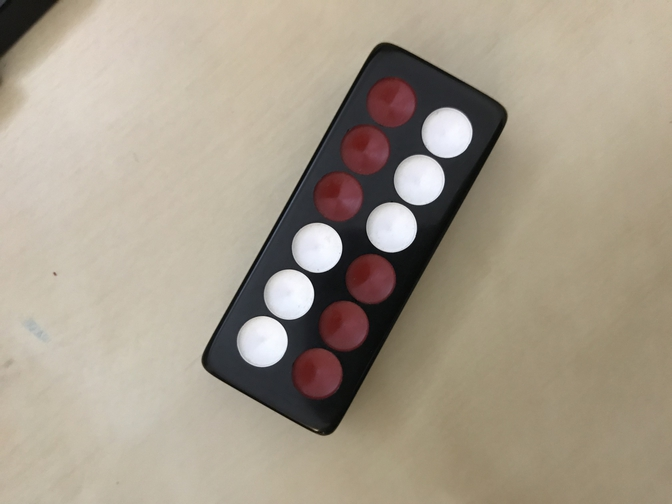heaven: (200, 41, 509, 437)
